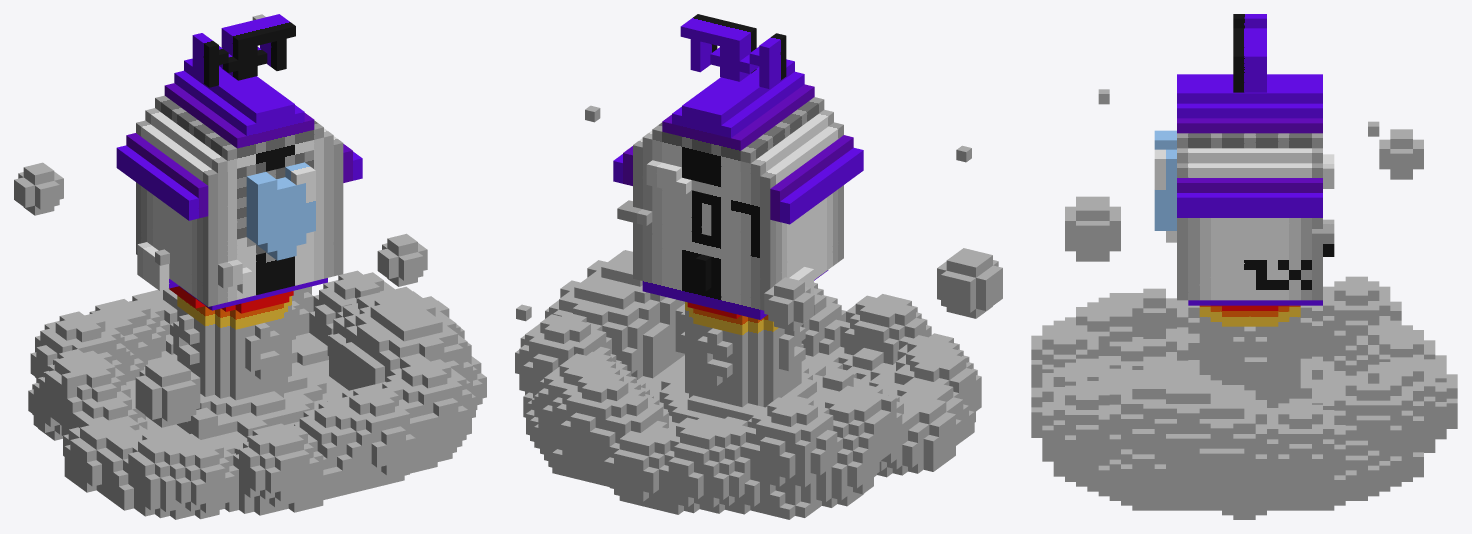
Rendered from HOME#07_GLB.glb.
The picture shows the model from 3 angles, left to right: view 1: azimuth 30°, elevation 25°; view 2: azimuth 150°, elevation 25°; view 3: azimuth 270°, elevation 25°; orthographic projection.
Parts seen in each view (by area): view 1: Node-Local; view 2: Node-Local; view 3: Node-Local.
Part boxes in pixels (x1,y1,x2,y2): Node-Local: (14, 14, 486, 519); Node-Local: (515, 14, 1002, 519); Node-Local: (1031, 14, 1457, 519).
Size of the model in its own units: 39 by 39 by 38.
Materials: 1 (1 with a texture image).
